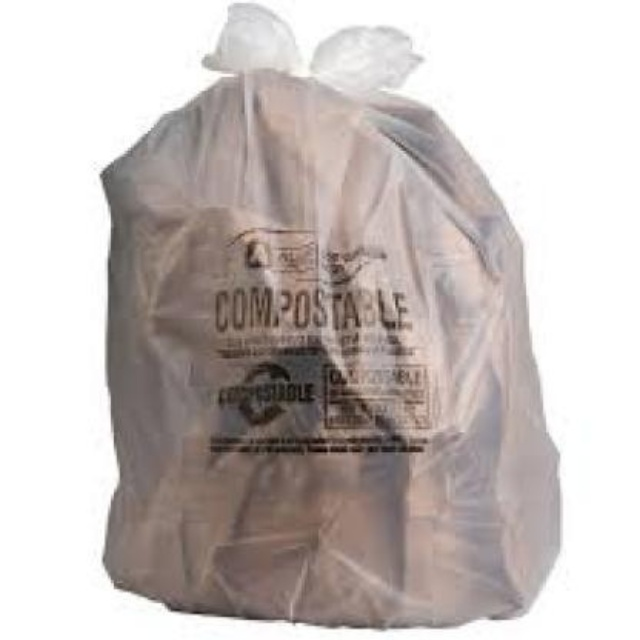trash: (102, 3, 558, 625)
